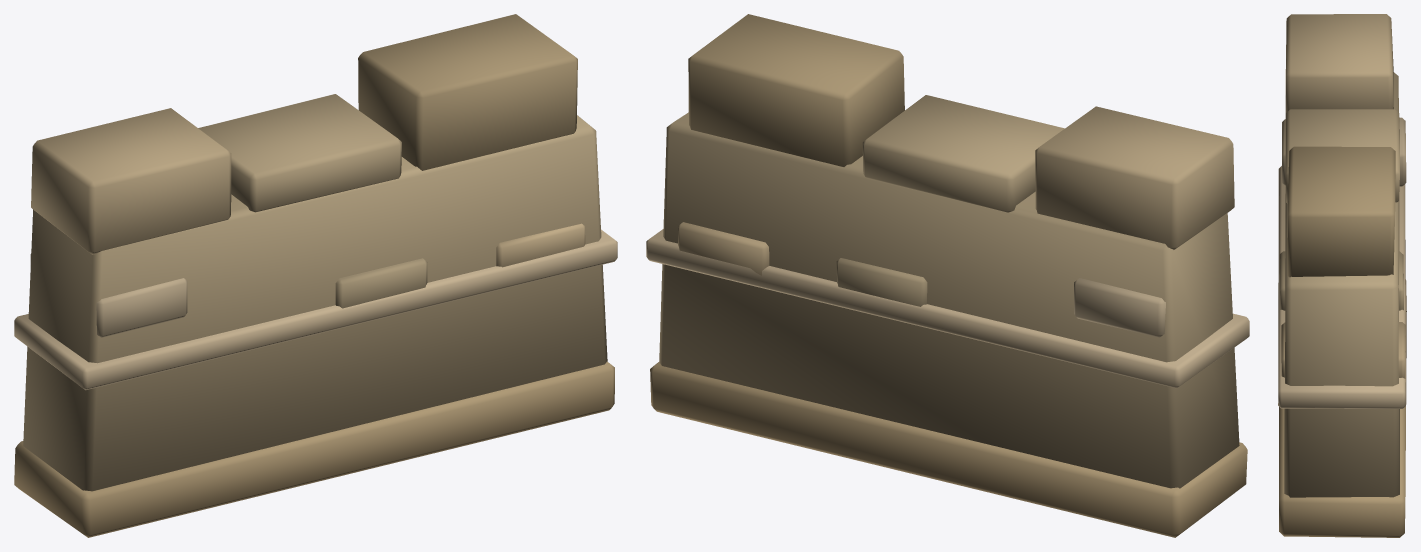
File: ruins_wall_b.glb
3 views of the same model, side by side, from view 1: azimuth 30°, elevation 25°; view 2: azimuth 150°, elevation 25°; view 3: azimuth 270°, elevation 25° (orthographic). The views are drawn at different scales.
Parts seen in each view (by area): view 1: ruins_wall_b; view 2: ruins_wall_b; view 3: ruins_wall_b.
Part boxes in pixels (box(x1,y1,x2,y2)): ruins_wall_b: box(14, 14, 617, 537); ruins_wall_b: box(646, 14, 1249, 537); ruins_wall_b: box(1278, 14, 1406, 537).
Size of what is drawn, in the model's own units: 4.05 by 2.61 by 0.9691.
